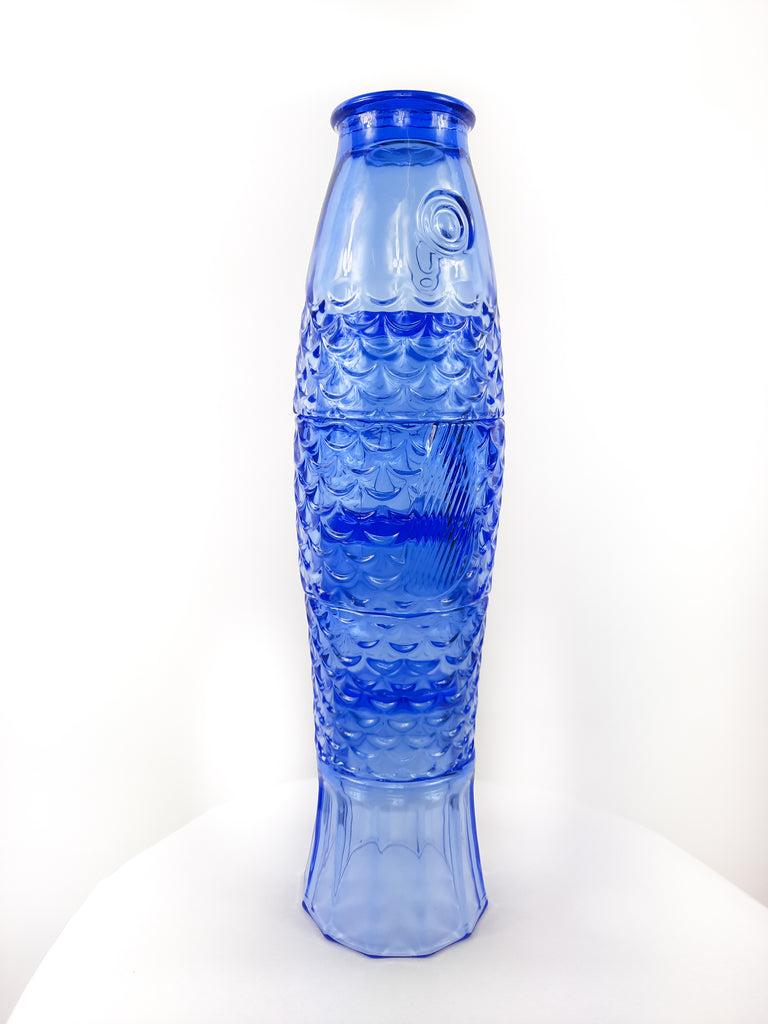bottle: (275, 78, 521, 975)
